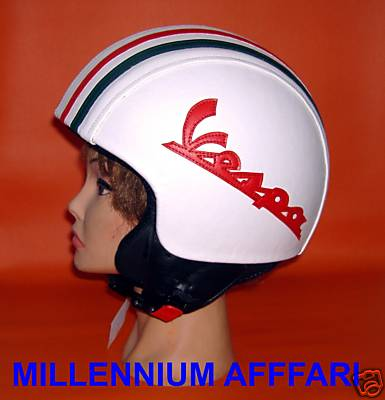helmet: (62, 34, 330, 261)
